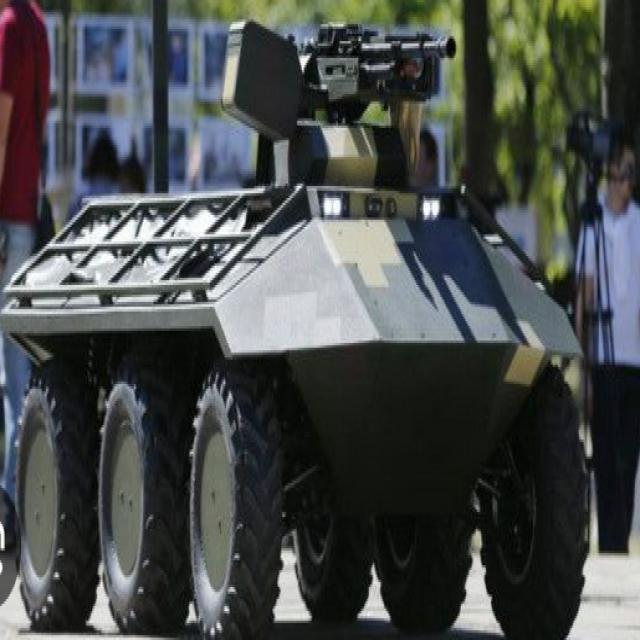MIL_APC: (0, 19, 589, 640)
